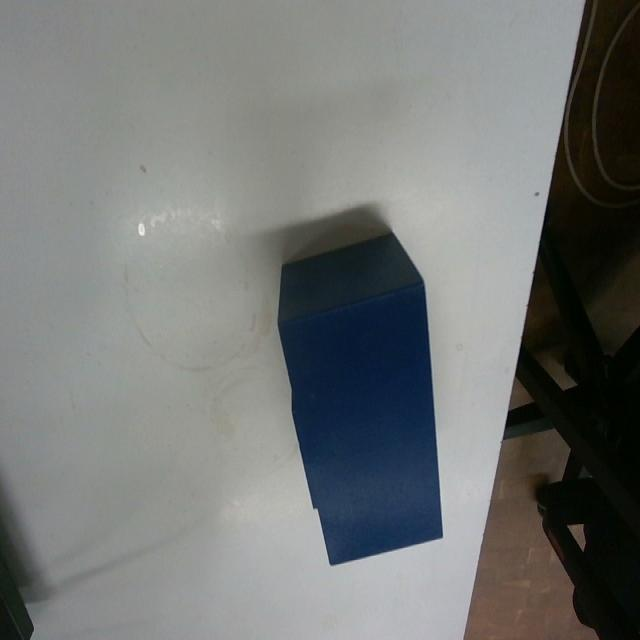Blue Cuboid: (275, 228, 445, 567)
